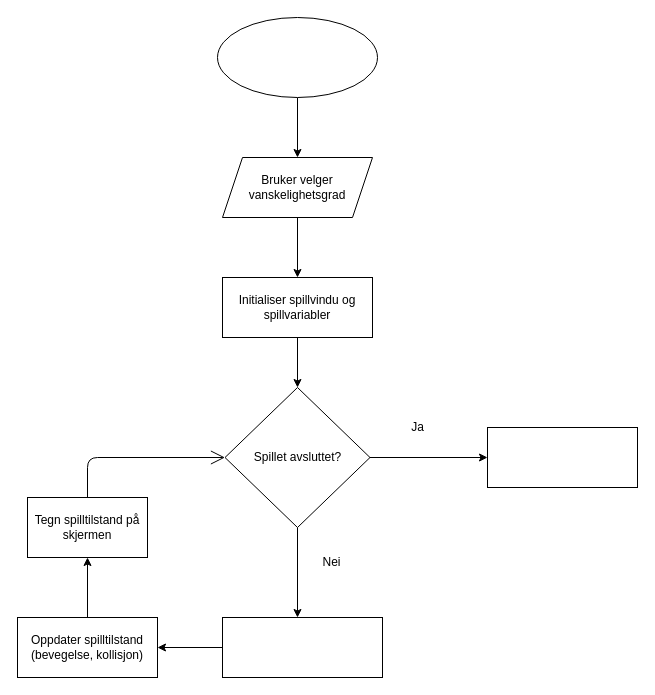
Some shapes in this 655 by 695 pixel diagram are drawn without their labels. The shapes that lost their labels are listed below. From the top down, each one's box as (x1, y1, x2, y2) in pixels, then its label:
(216, 16, 378, 98): Programmet starter
(486, 426, 638, 488): Vis game over-skjerm med poengsum
(222, 616, 382, 678): Håndter hendelser (tastetrykk, vinduslukking)
